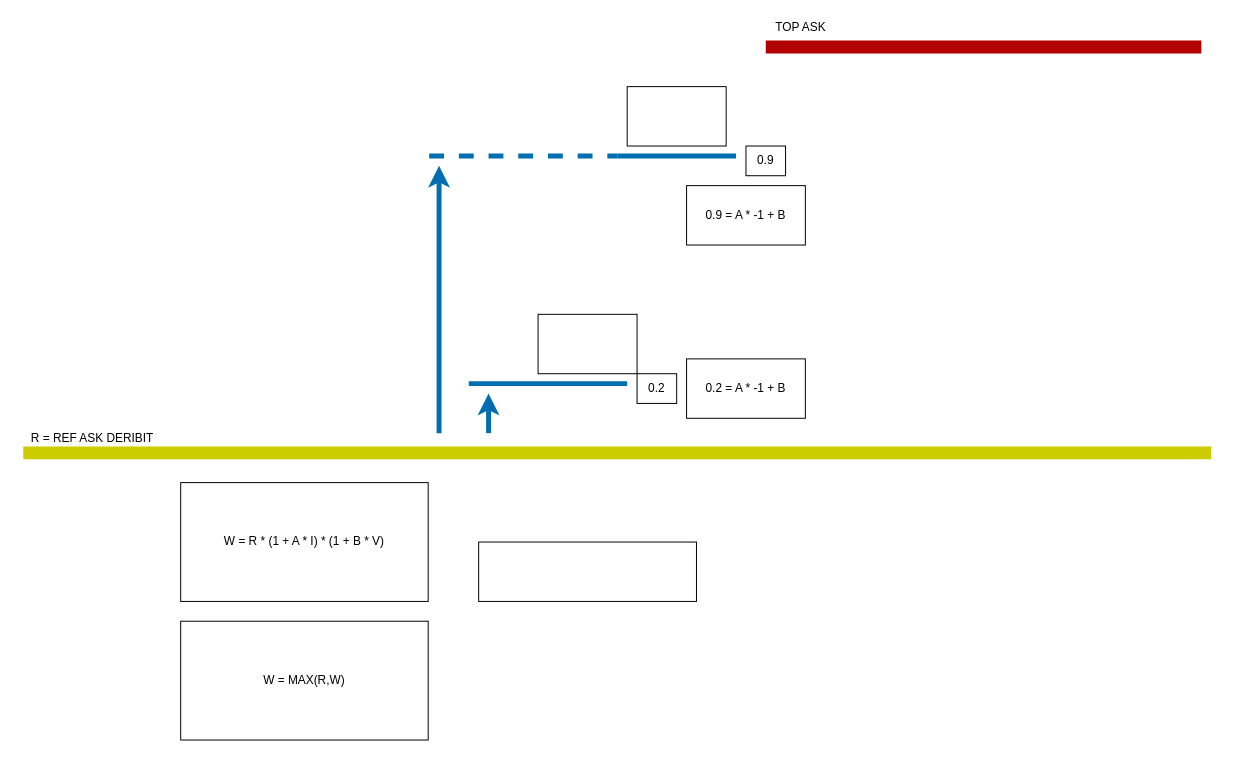
Image size: 1236x757. Some labels were removed from this diagram. Each missing label, with the centre of its shape:
cena po której sprzedajesz jak masz mało bitków: point 676,116
cena po której sprzedajesz jak masz same bitki: point 587,343
W = R * ( 1 + 0.0055 * I + 0.0035: point 587,571
